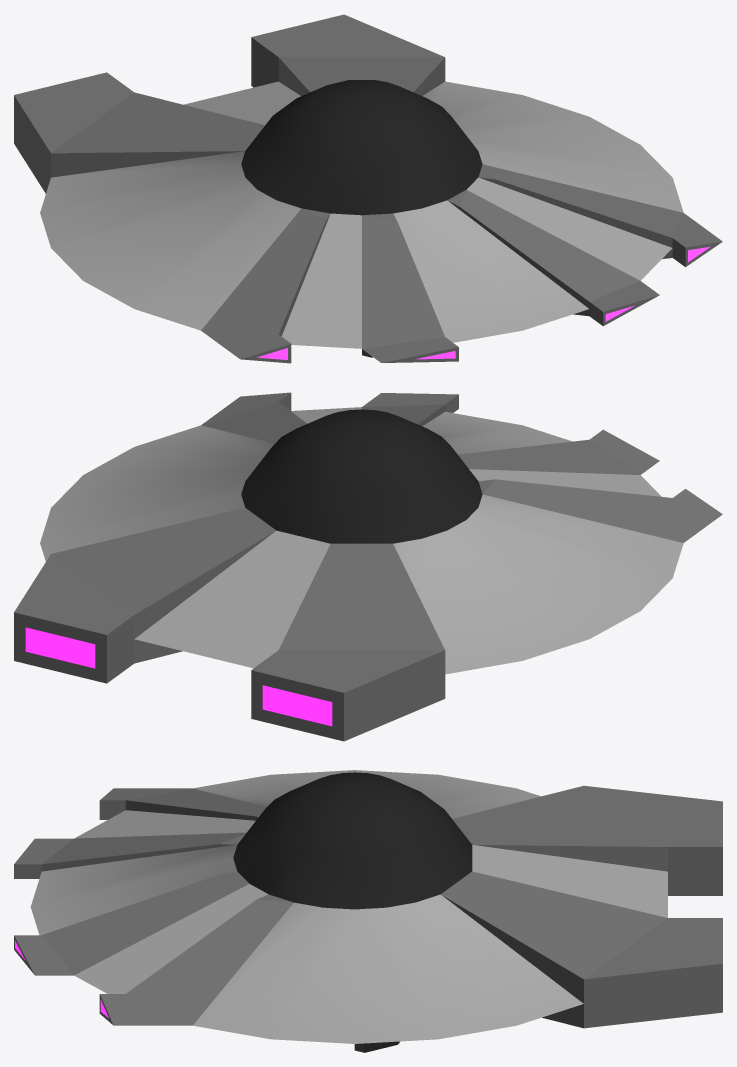
The model's file is SpaceshipOmniclops.fbx.
3 views of the same model, one above another, from view 1: azimuth 30°, elevation 25°; view 2: azimuth 150°, elevation 25°; view 3: azimuth 270°, elevation 25° (orthographic).
Parts seen in each view (by area): view 1: SpaceshipOmniclops; view 2: SpaceshipOmniclops; view 3: SpaceshipOmniclops.
Part boxes in pixels (bbox=[...]): SpaceshipOmniclops: bbox=[14, 14, 722, 363]; SpaceshipOmniclops: bbox=[14, 392, 722, 741]; SpaceshipOmniclops: bbox=[14, 770, 722, 1052].
Size of the model in its own units: 960 by 400 by 1050.
